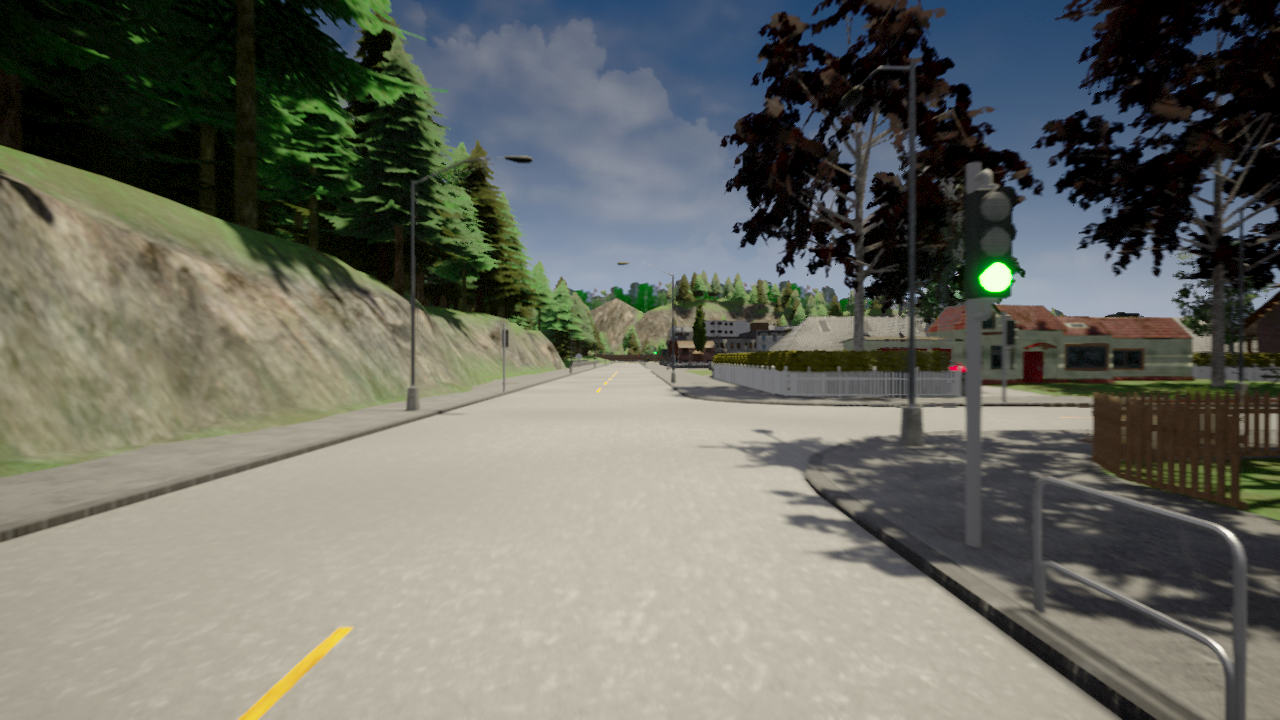green: (964, 186, 1020, 305)
